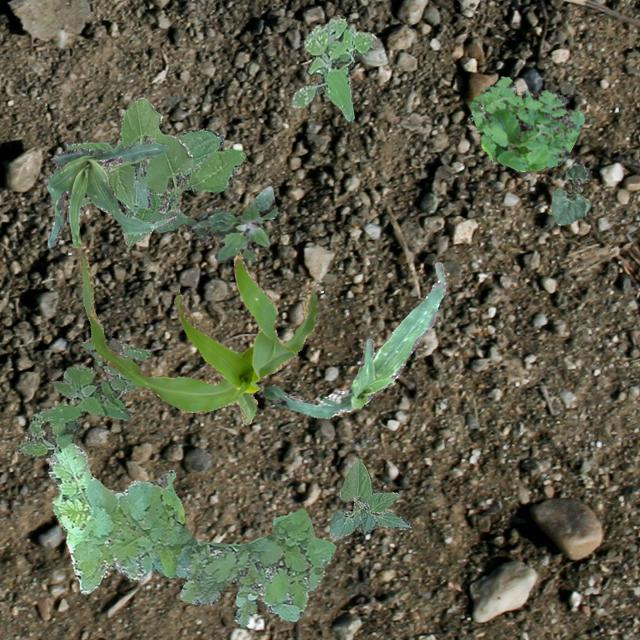crop: (77, 251, 316, 424), (262, 260, 444, 416), (44, 142, 174, 246), (121, 127, 222, 245), (328, 458, 411, 538), (550, 163, 590, 224)
weed: (46, 442, 334, 626), (66, 96, 244, 232), (14, 334, 150, 456), (468, 76, 584, 170), (290, 14, 376, 120), (185, 184, 278, 262)
